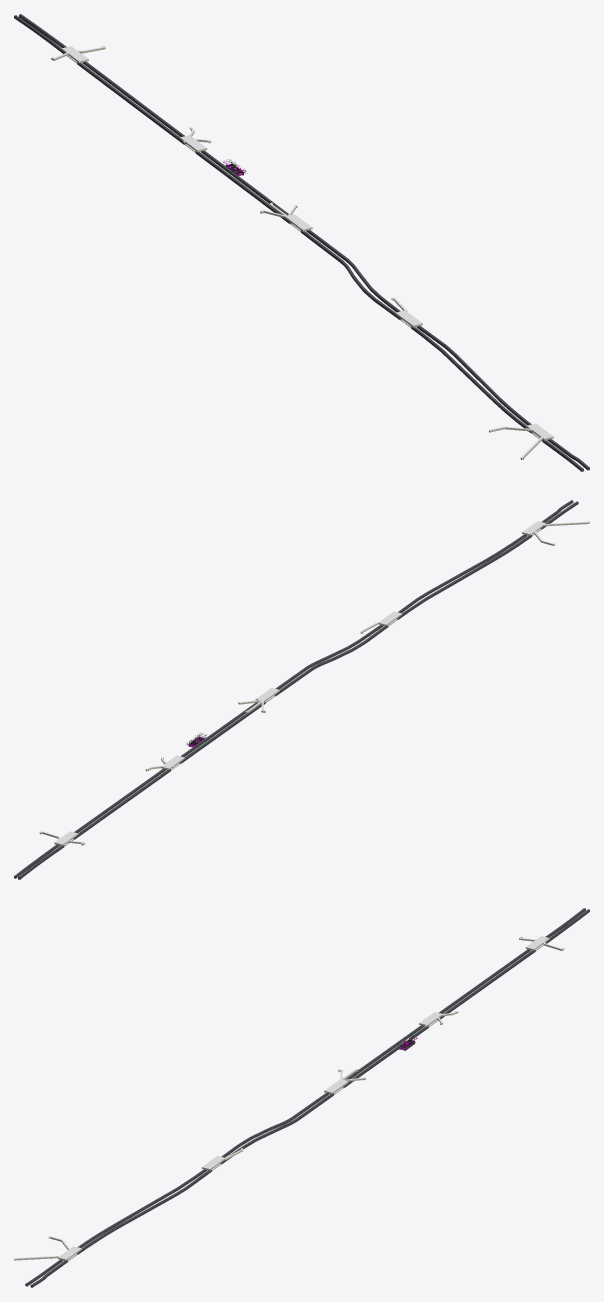
The model's file is apm.glb.
3 views of the same model, one above another, from view 1: azimuth 30°, elevation 25°; view 2: azimuth 150°, elevation 25°; view 3: azimuth 330°, elevation 25° (orthographic). The views are drawn at different scales.
Size of the model in its own units: 226 by 20.45 by 2172.
